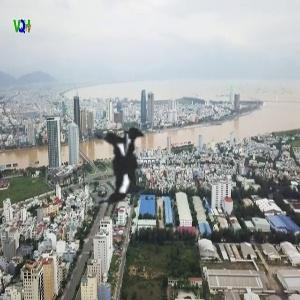drone: (7, 46, 243, 282)
